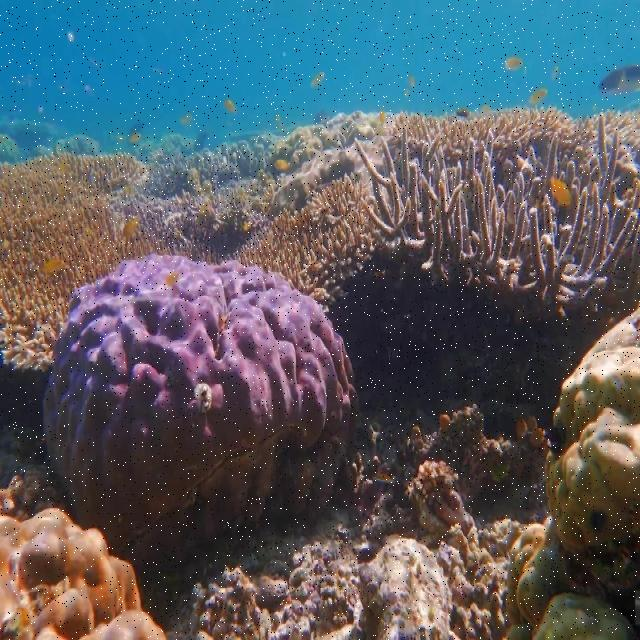fish: (599, 63, 639, 94), (550, 177, 573, 208), (40, 259, 65, 274), (528, 88, 549, 105), (504, 56, 524, 71), (125, 221, 141, 238), (273, 159, 293, 172), (225, 99, 239, 114), (311, 72, 325, 87), (128, 131, 142, 143)
reefs: (37, 253, 362, 575), (138, 404, 549, 638), (353, 104, 639, 349), (503, 300, 639, 639), (0, 146, 167, 373), (0, 468, 166, 639), (106, 134, 278, 264), (237, 173, 393, 306), (266, 110, 400, 219)
